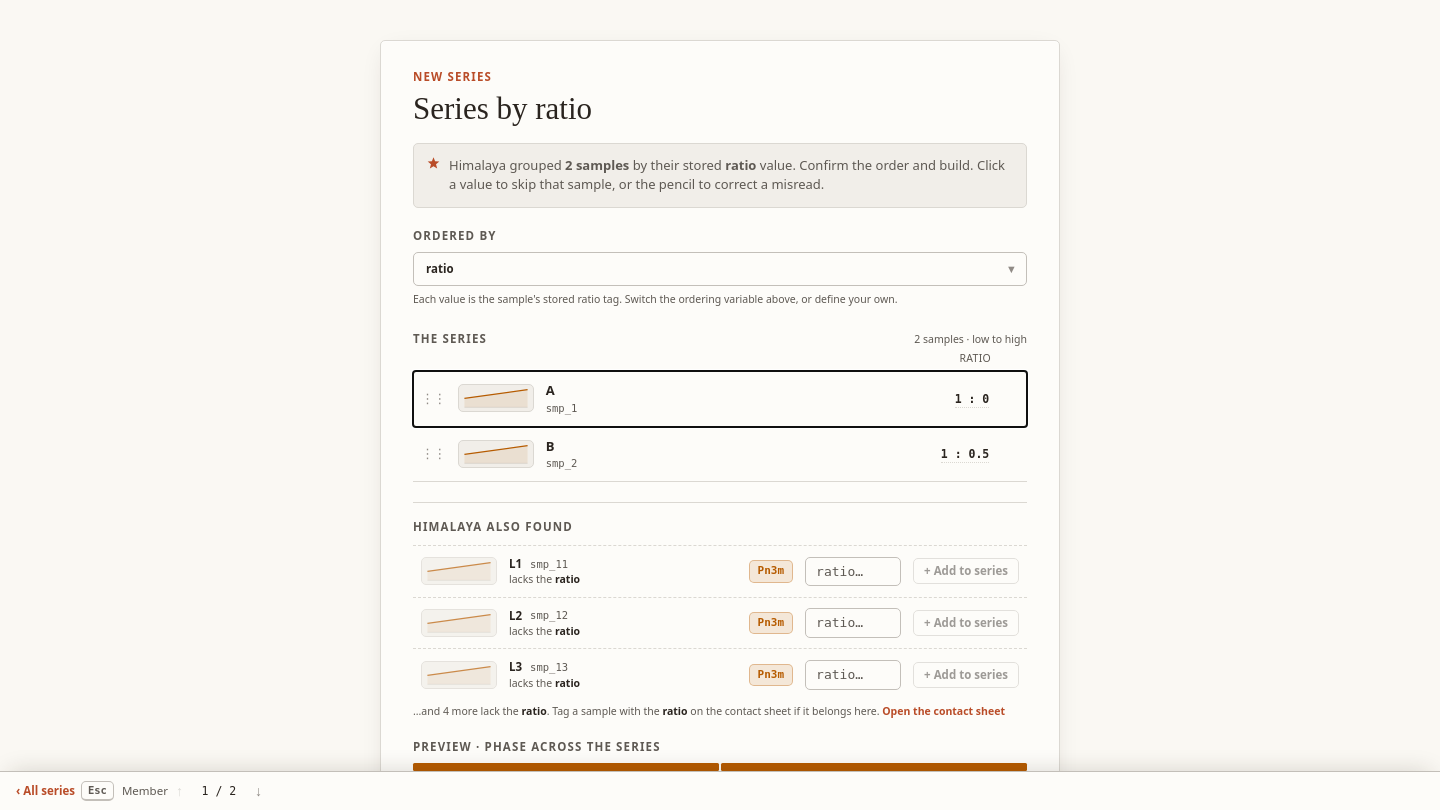
SeriesScopingPage › loose candidates are actionable (SCOPE-LOOSEADD) › Enter in the value field adds the candidate
Type "9" into the field named "value for L1" at (853,571), box [816,562,890,581]
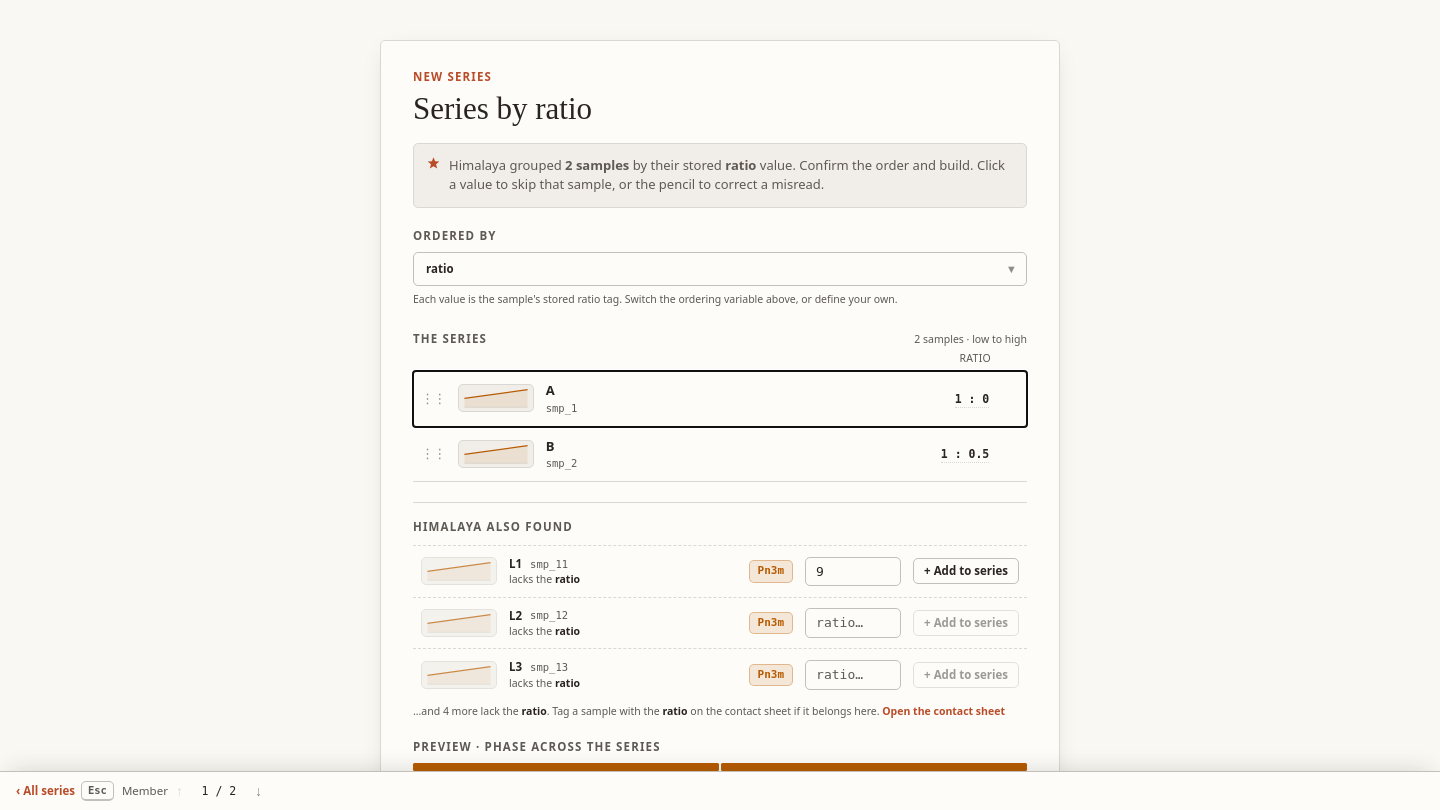
Press Enter in the field named "value for L1", box [816,562,890,581]
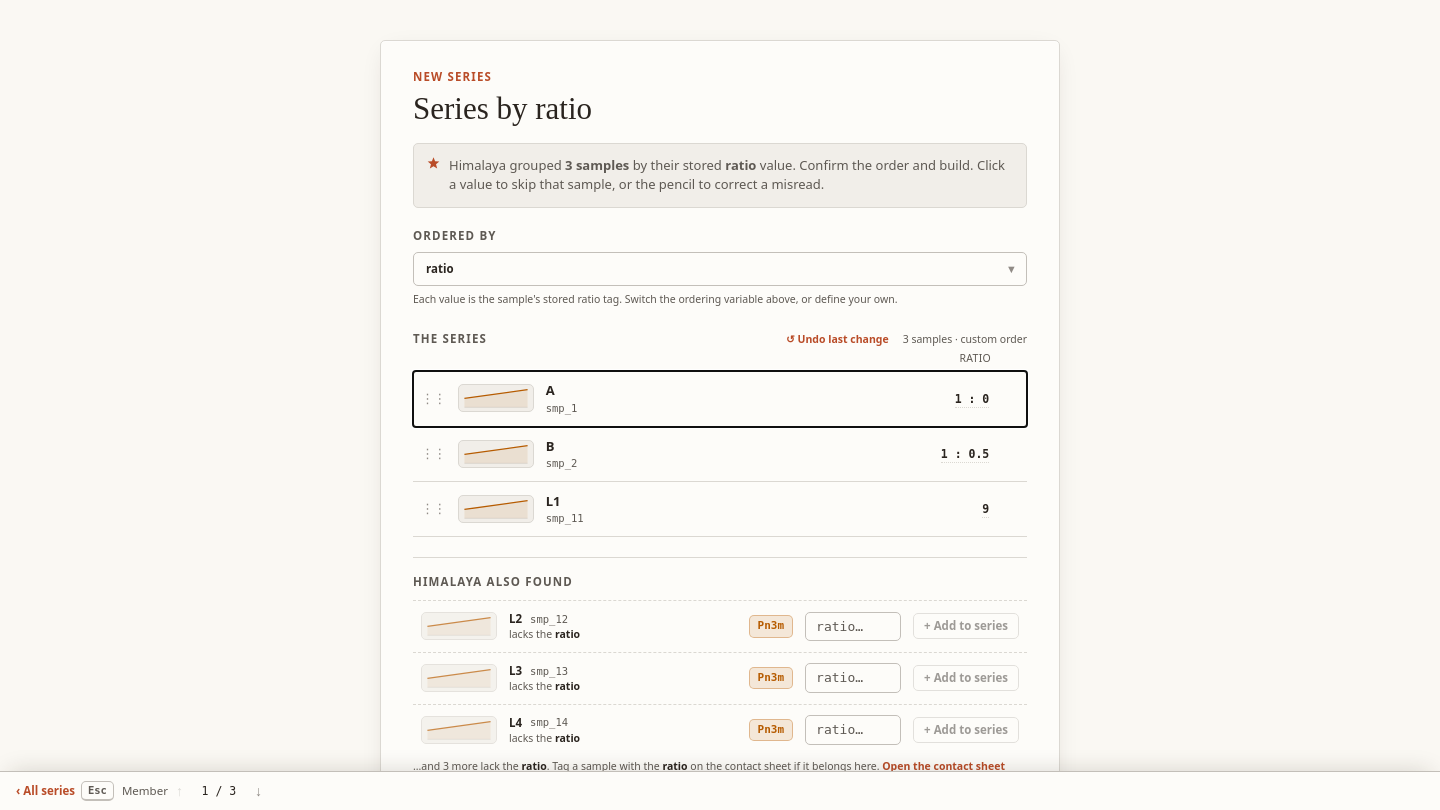
Result: the number of elements with test id "scope-sample-row" is 3 at [413,371,1027,427]; [413,427,1027,482]; [413,482,1027,537]
